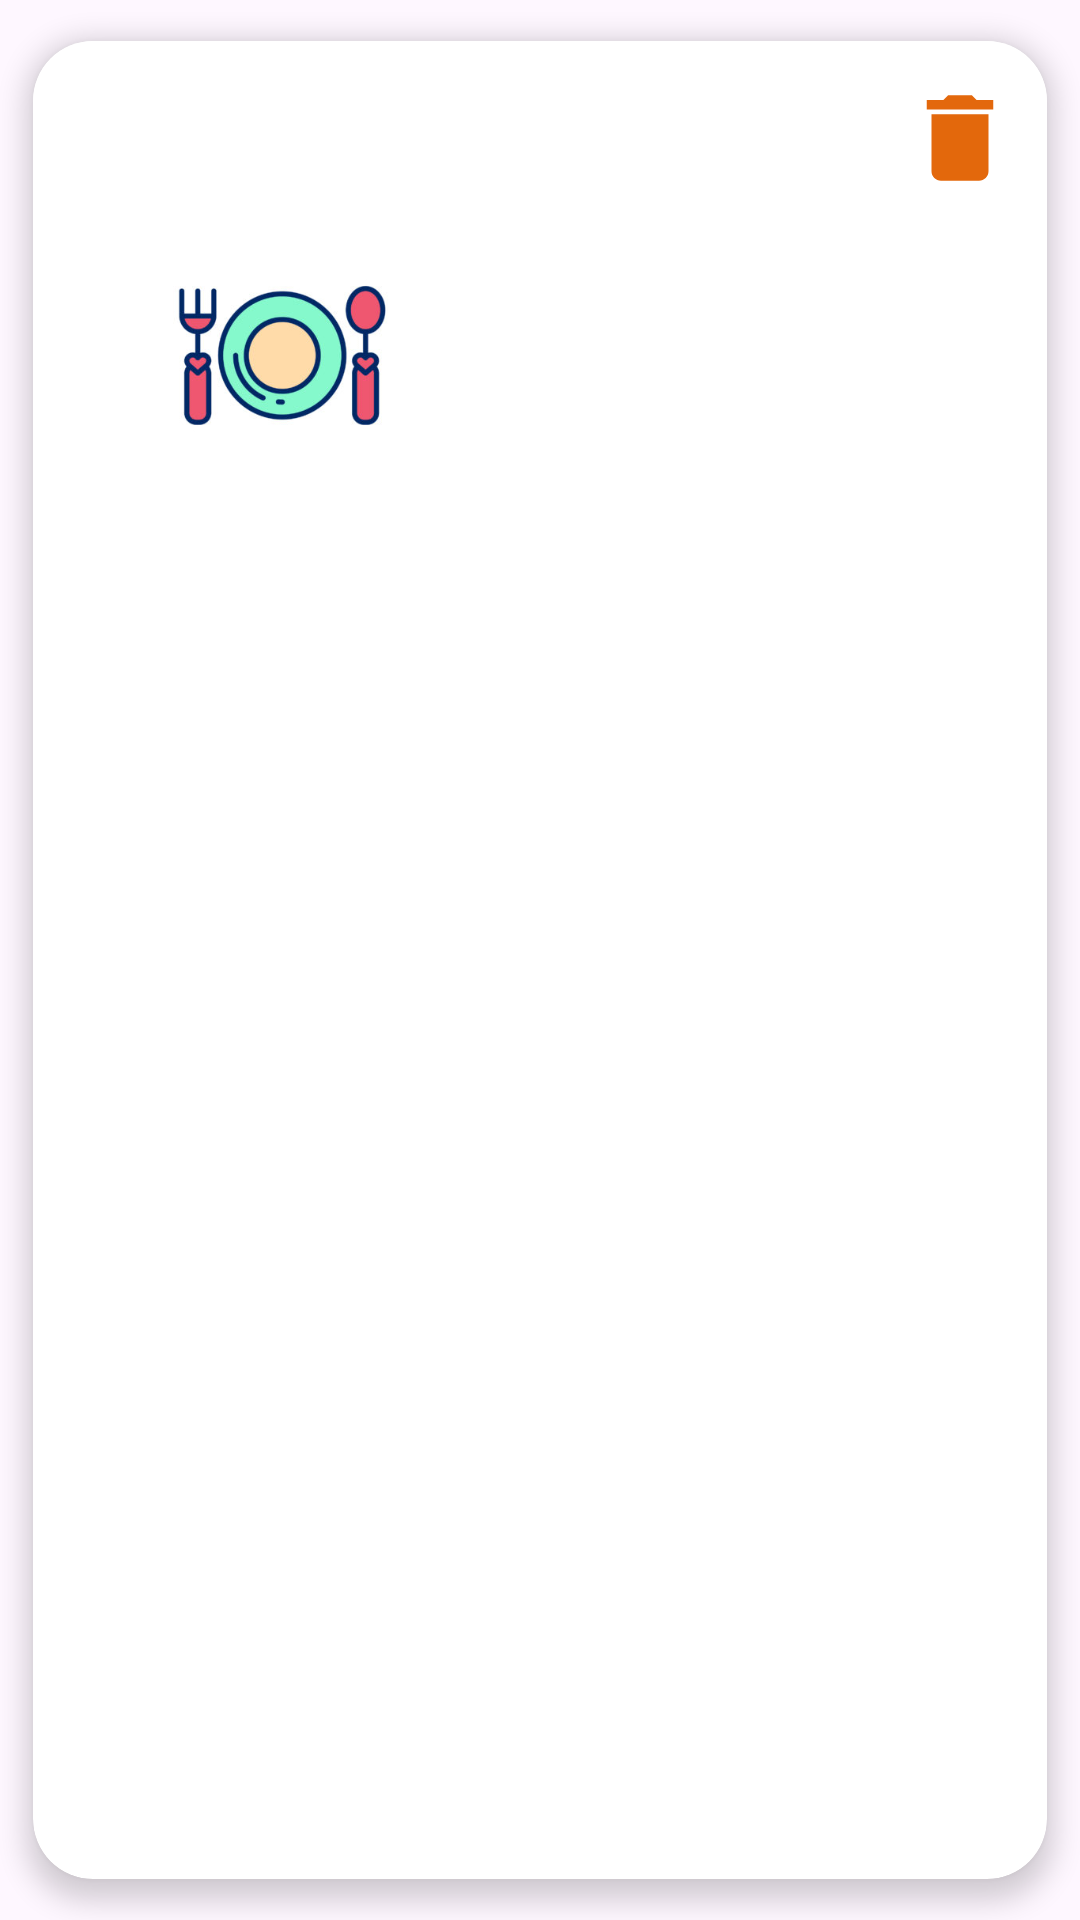

Screen size 1080px×1920px. Icon name, then its box in pixels as BBox(x1, y1, x2, y2):
delete: BBox(926, 95, 994, 181)
